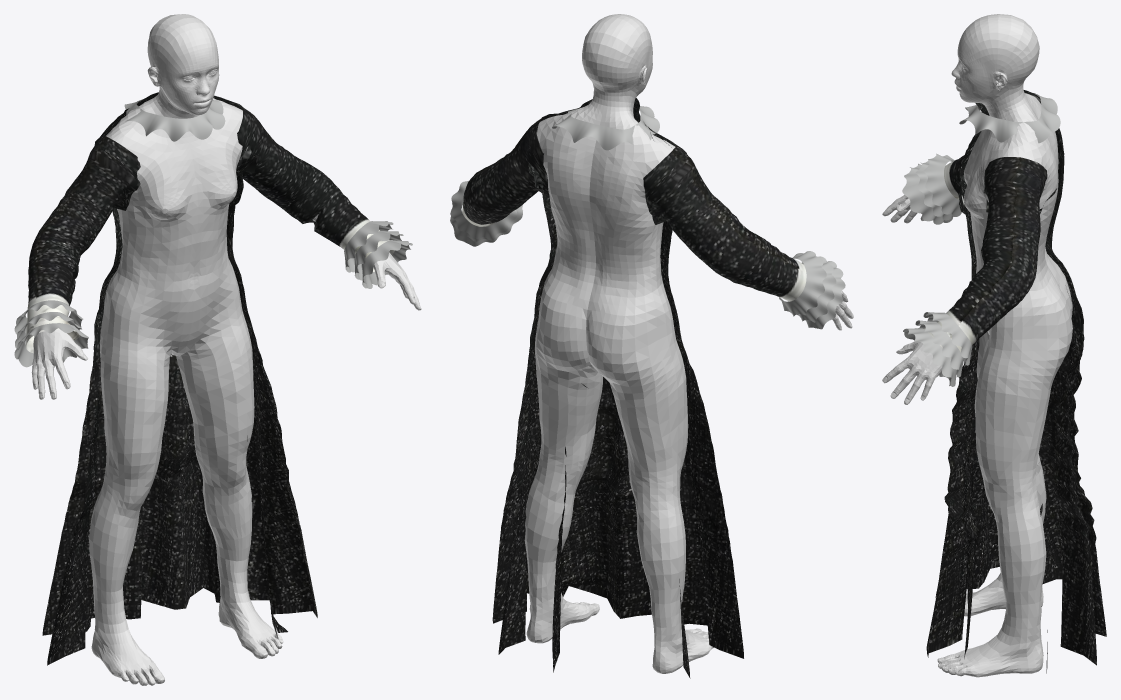
File: dress01_flat_on_avatar.glb
3 renders of one model, left to right at view 1: azimuth 30°, elevation 25°; view 2: azimuth 150°, elevation 25°; view 3: azimuth 270°, elevation 25°, orthographic.
Visible parts, largest first — view 1: geometry_0, dress; view 2: geometry_0, dress; view 3: dress, geometry_0.
Part boxes in pixels (x1,y1,x2,y2): geometry_0: [31, 14, 421, 685]; dress: [14, 92, 412, 665]; geometry_0: [522, 14, 853, 673]; dress: [450, 98, 845, 678]; dress: [902, 90, 1106, 673]; geometry_0: [882, 14, 1072, 677].
Size of the model in its own units: 1.05 by 1.62 by 0.5275.
Materials: 2 (1 with a texture image).
